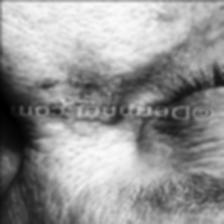Potentially Malignant Skin Tumors: (68, 84, 120, 104), (68, 114, 120, 126)
